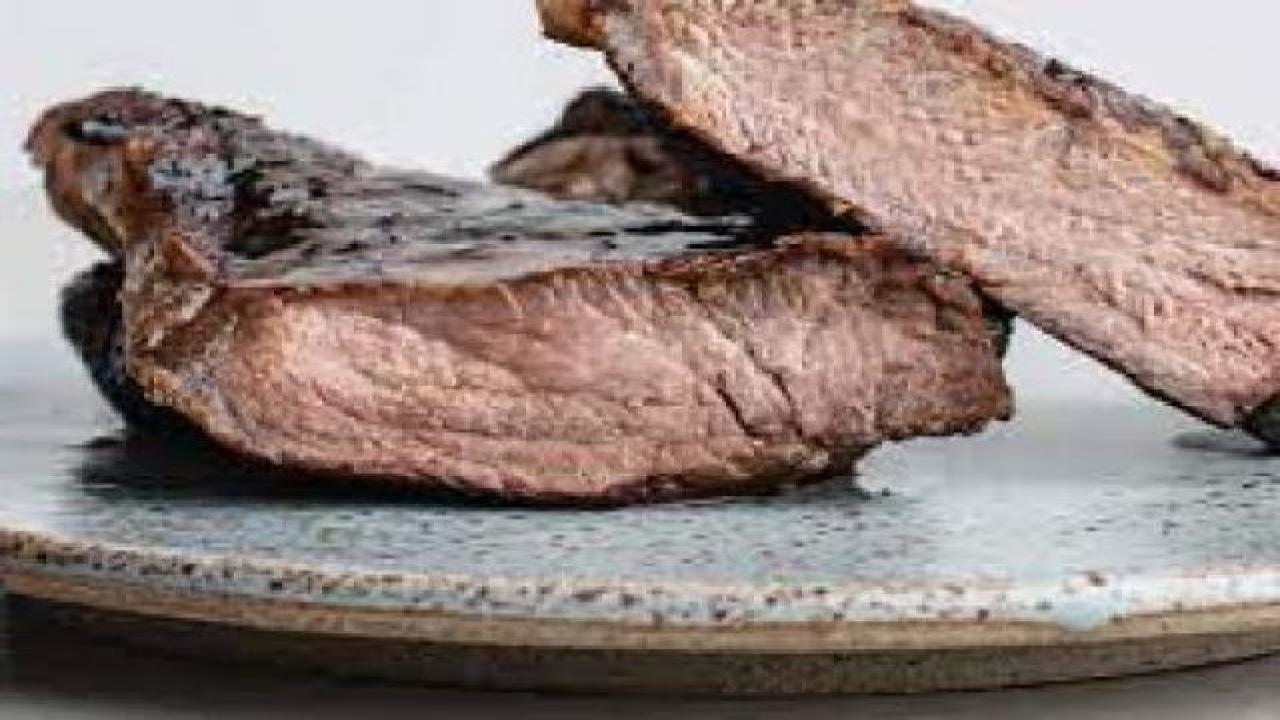Carne: (0, 113, 1006, 492), (548, 0, 1260, 499)
